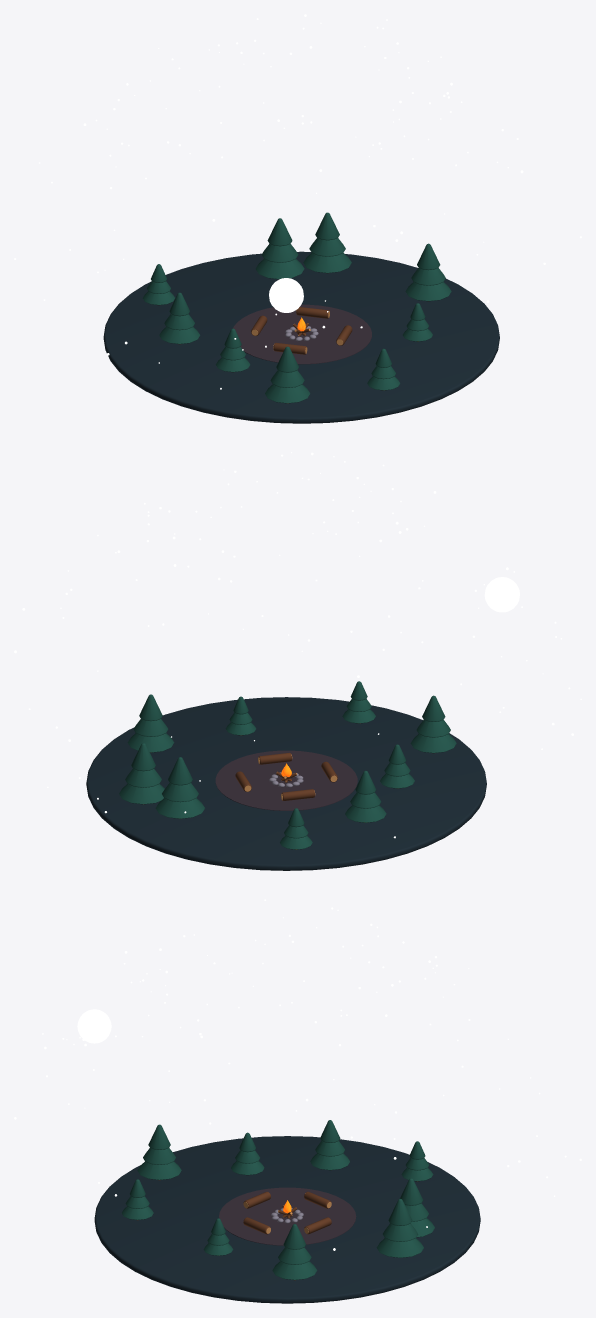
File: room_campfire.glb
The picture shows the model from 3 angles, top to bottom: view 1: azimuth 30°, elevation 25°; view 2: azimuth 150°, elevation 25°; view 3: azimuth 270°, elevation 25°; orthographic projection. The views are drawn at different scales.
Parts seen in each view (by area): view 1: Ground, Clearing, Tree_2, Tree_1, Tree_0, Tree_6, Tree_4, Moon, Tree_5, Tree_7, Tree_3, Tree_8 (+1 smaller); view 2: Ground, Clearing, Tree_2, Tree_1, Tree_6, Tree_0, Tree_4, Moon, Tree_5, Tree_7, Tree_3, Tree_8 (+1 smaller); view 3: Ground, Clearing, Tree_1, Tree_0, Tree_6, Tree_4, Tree_2, Moon, Tree_5, Tree_7, Tree_3, Tree_8 (+1 smaller).
Boxes of the visible parts, left/top/right/bottom form: Ground: left=103, top=251, right=499, bottom=423; Clearing: left=233, top=304, right=371, bottom=364; Tree_2: left=255, top=218, right=304, bottom=279; Tree_1: left=303, top=212, right=351, bottom=273; Tree_0: left=405, top=243, right=451, bottom=301; Tree_6: left=265, top=346, right=310, bottom=403; Tree_4: left=159, top=292, right=200, bottom=344; Moon: left=269, top=278, right=303, bottom=312; Tree_5: left=216, top=328, right=250, bottom=372; Tree_7: left=367, top=348, right=400, bottom=390; Tree_3: left=143, top=264, right=174, bottom=305; Tree_8: left=403, top=303, right=432, bottom=341; Ground: left=86, top=697, right=486, bottom=870; Clearing: left=215, top=750, right=357, bottom=810; Tree_2: left=155, top=757, right=204, bottom=818; Tree_1: left=119, top=743, right=164, bottom=804; Tree_6: left=410, top=695, right=456, bottom=753; Tree_0: left=127, top=694, right=174, bottom=752; Tree_4: left=345, top=770, right=386, bottom=822; Moon: left=484, top=577, right=519, bottom=612; Tree_5: left=380, top=744, right=414, bottom=788; Tree_7: left=342, top=681, right=375, bottom=723; Tree_3: left=280, top=808, right=312, bottom=849; Tree_8: left=225, top=696, right=256, bottom=735; Ground: left=94, top=1136, right=480, bottom=1303; Clearing: left=219, top=1187, right=356, bottom=1245; Tree_1: left=376, top=1198, right=423, bottom=1257; Tree_0: left=272, top=1224, right=317, bottom=1280; Tree_6: left=137, top=1124, right=181, bottom=1180; Tree_4: left=310, top=1120, right=350, bottom=1170; Tree_2: left=400, top=1178, right=434, bottom=1237; Moon: left=77, top=1009, right=111, bottom=1043; Tree_5: left=231, top=1132, right=264, bottom=1175; Tree_7: left=121, top=1179, right=153, bottom=1220; Tree_3: left=401, top=1141, right=433, bottom=1181; Tree_8: left=203, top=1218, right=233, bottom=1255.
Size of the model in its own units: 26.28 by 14.75 by 26.48.
